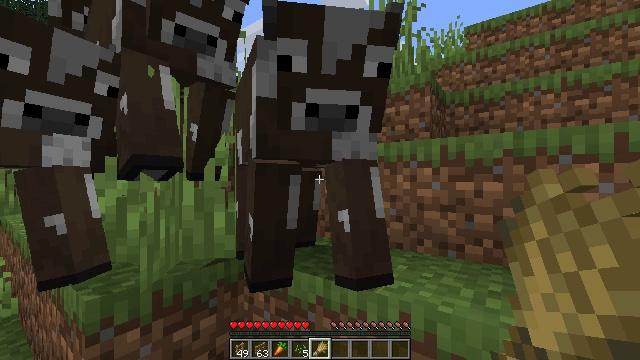cow: (242, 0, 396, 286), (0, 17, 124, 265), (144, 0, 248, 179)
